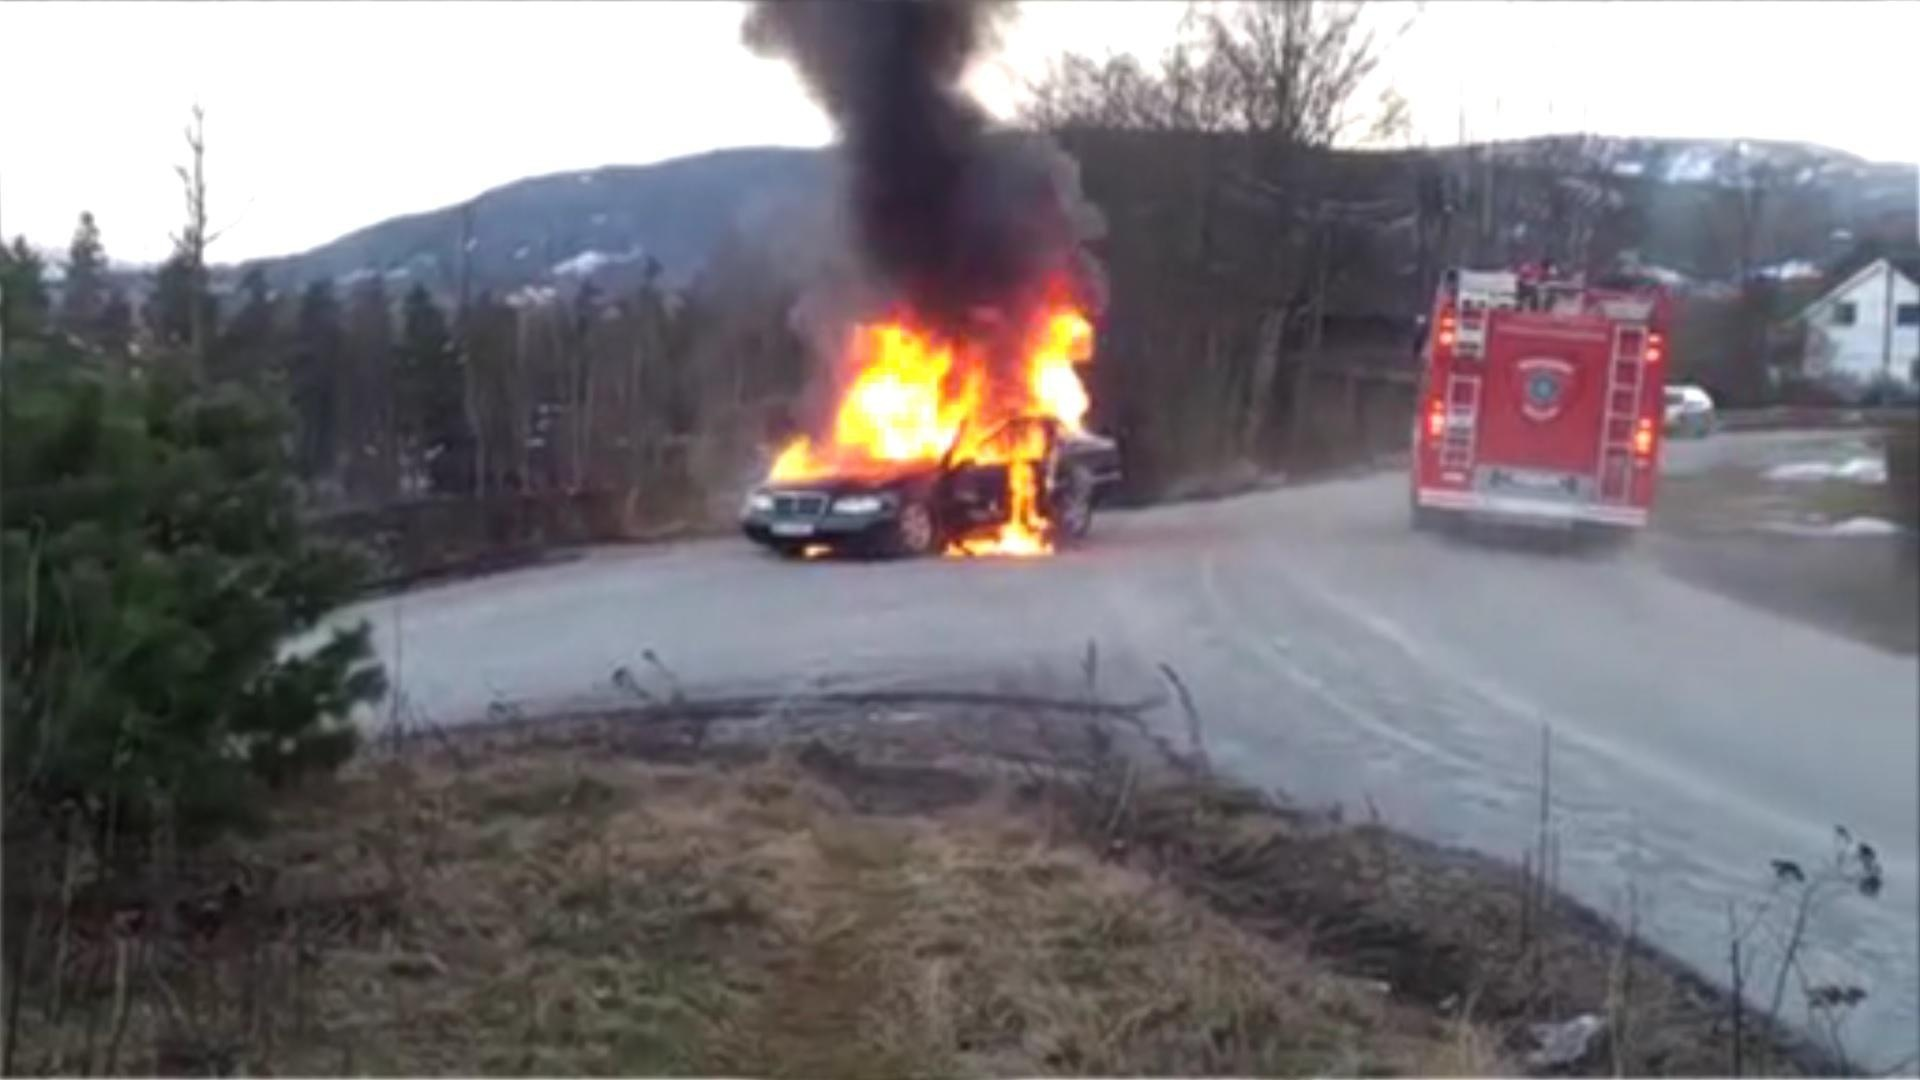fire: (765, 297, 1112, 571)
